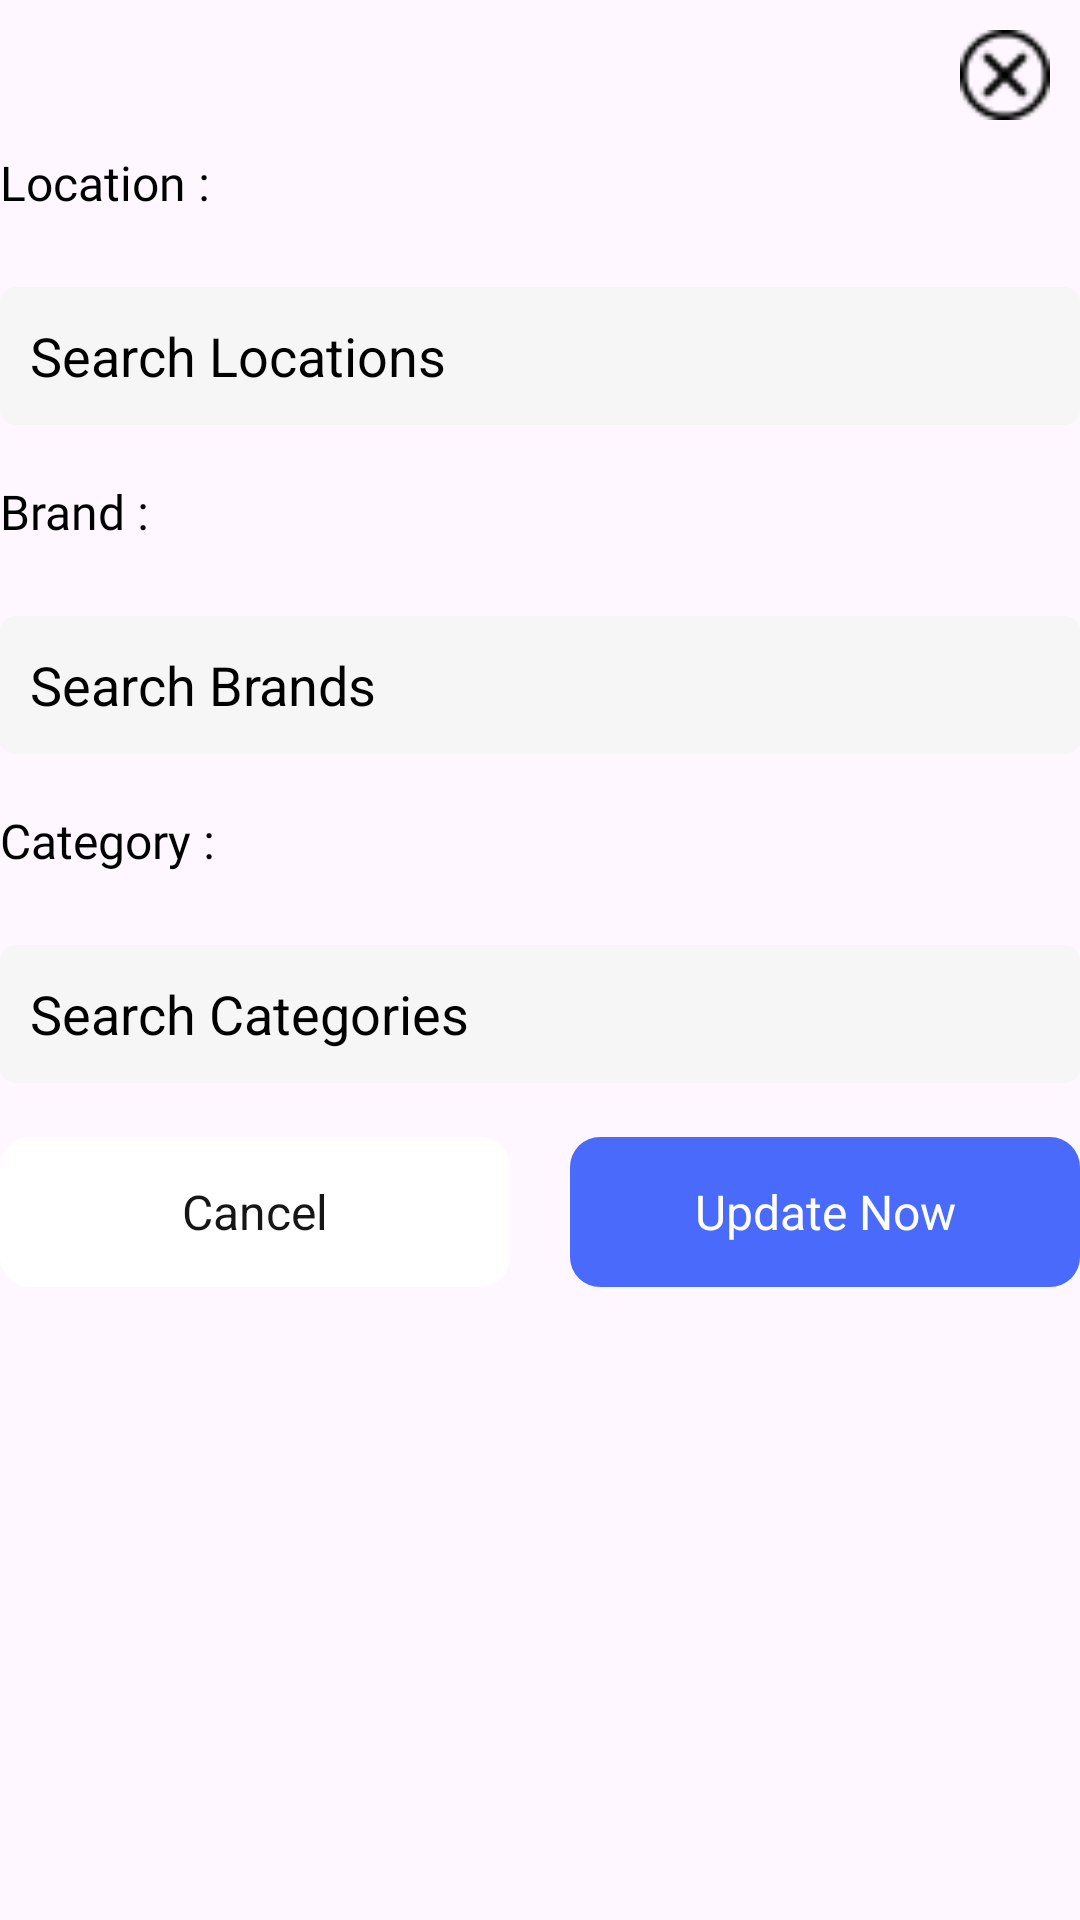

Icon bounding boxes for this 1080 x 1920 phone screenshot, format [x1, y1, x2, y2]:
close: [960, 30, 1050, 120]
